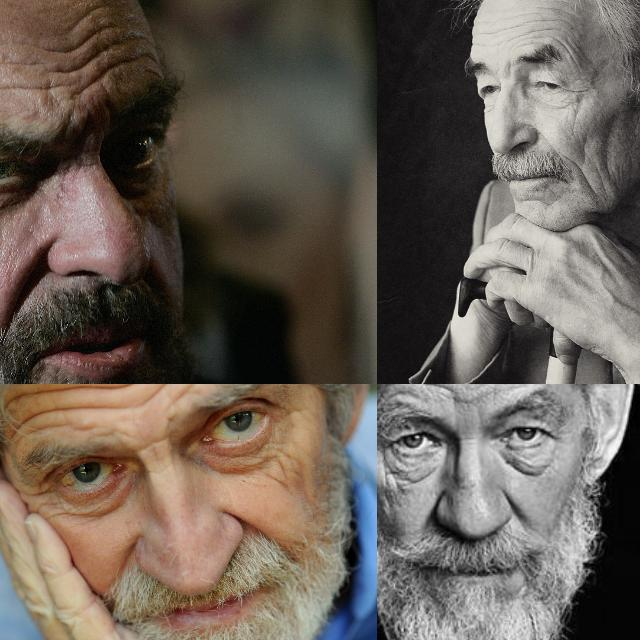chin: (518, 192, 548, 208)
crows_feet: (22, 469, 60, 509), (562, 78, 592, 104)
forehead: (64, 32, 110, 82), (7, 384, 61, 423), (114, 30, 154, 72), (0, 74, 63, 98), (516, 12, 562, 42), (434, 384, 468, 415), (71, 384, 113, 404), (118, 384, 163, 398), (482, 22, 508, 46), (386, 384, 423, 399)
frown_line: (135, 428, 173, 456)
masseter: (268, 450, 306, 500), (573, 156, 607, 192)
